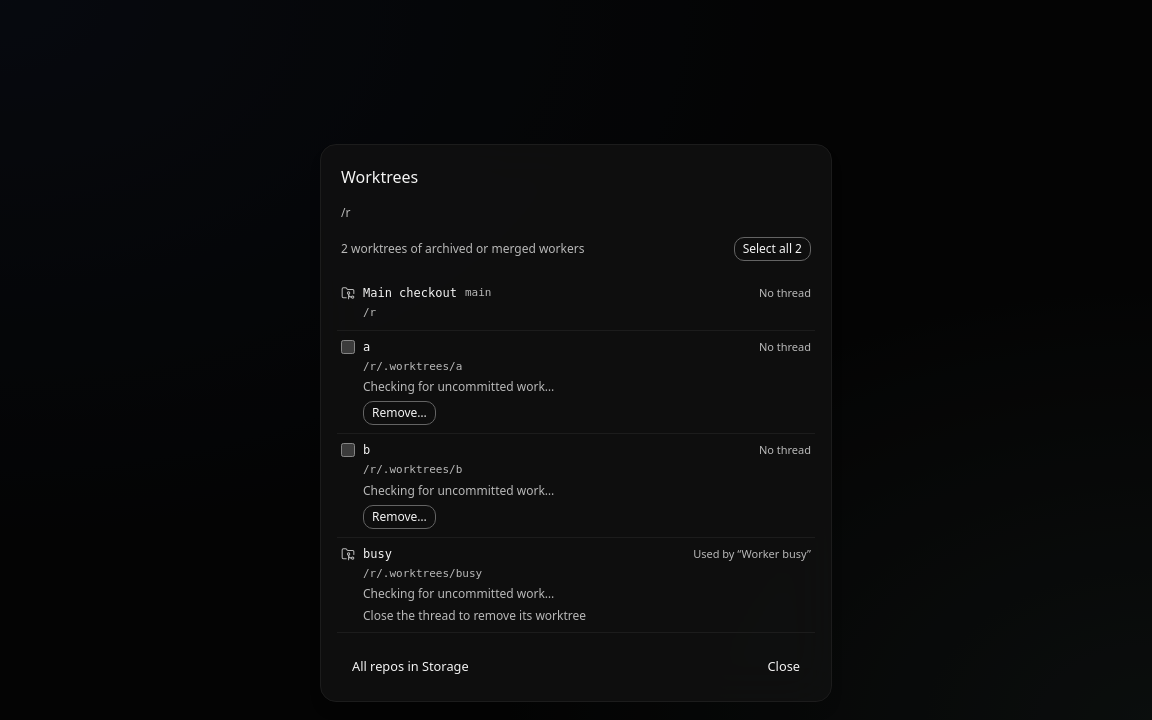
Test: WorktreesDialog bulk removal › selects archived and merged workers' worktrees at once and closes each worker with it
Expected: the text "2 worktrees of archived or merged workers" is shown, x1=341 y1=241 x2=584 y2=257
Click the button "Select all 2". click: (772, 249)
box: x1=734 y1=237 x2=811 y2=261
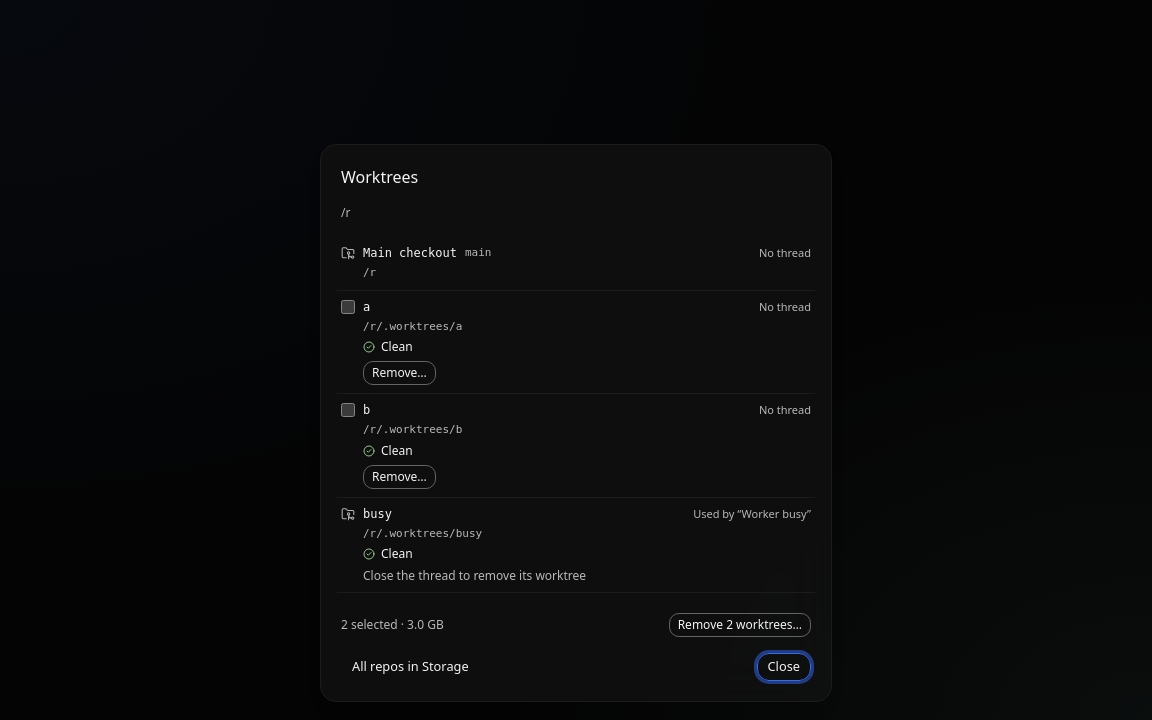
Expected: the text with test id "worktree-selection" reads "2 selected · 3.0 GB", x1=341 y1=617 x2=444 y2=633
Click the button "Remove 2 worktrees…". click: (740, 625)
box: x1=669 y1=613 x2=811 y2=637
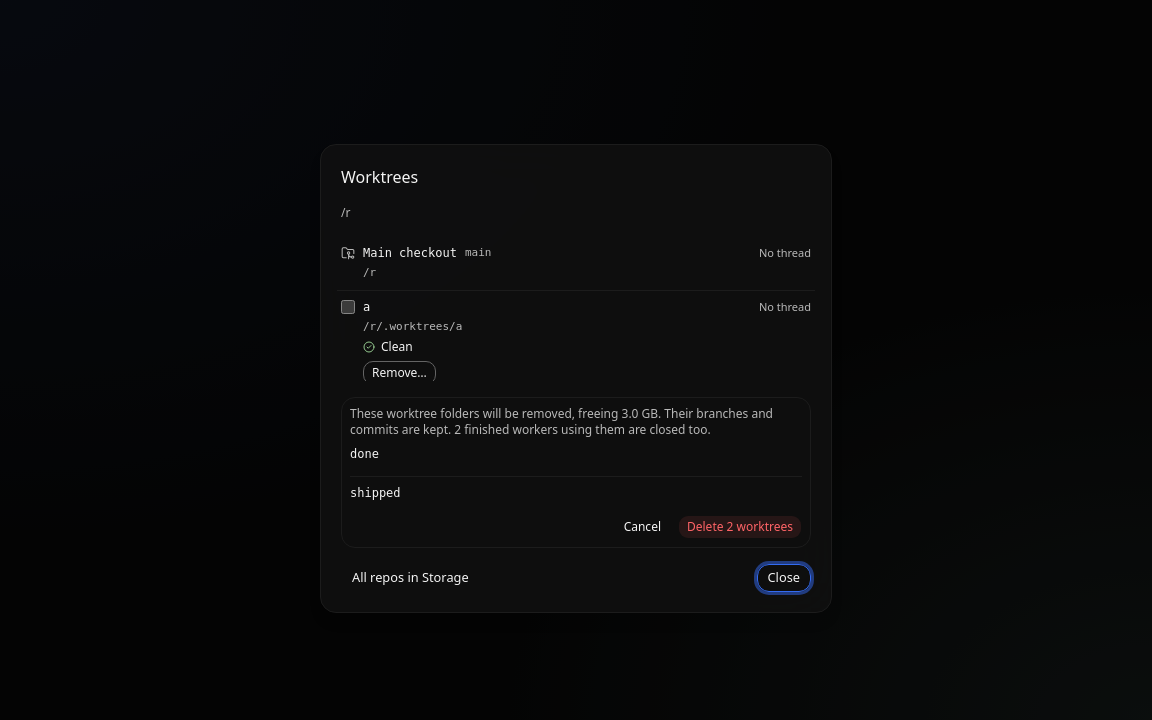
Expected: the element with test id "worktree-bulk-remove" shows "freeing 3.0 GB", x1=341 y1=397 x2=811 y2=548
Expected: the element with test id "worktree-bulk-remove" shows "2 finished workers using them are closed too.", x1=451 y1=421 x2=711 y2=438
Click the button "Delete 2 worktrees". click: (740, 527)
box: x1=678 y1=515 x2=802 y2=539
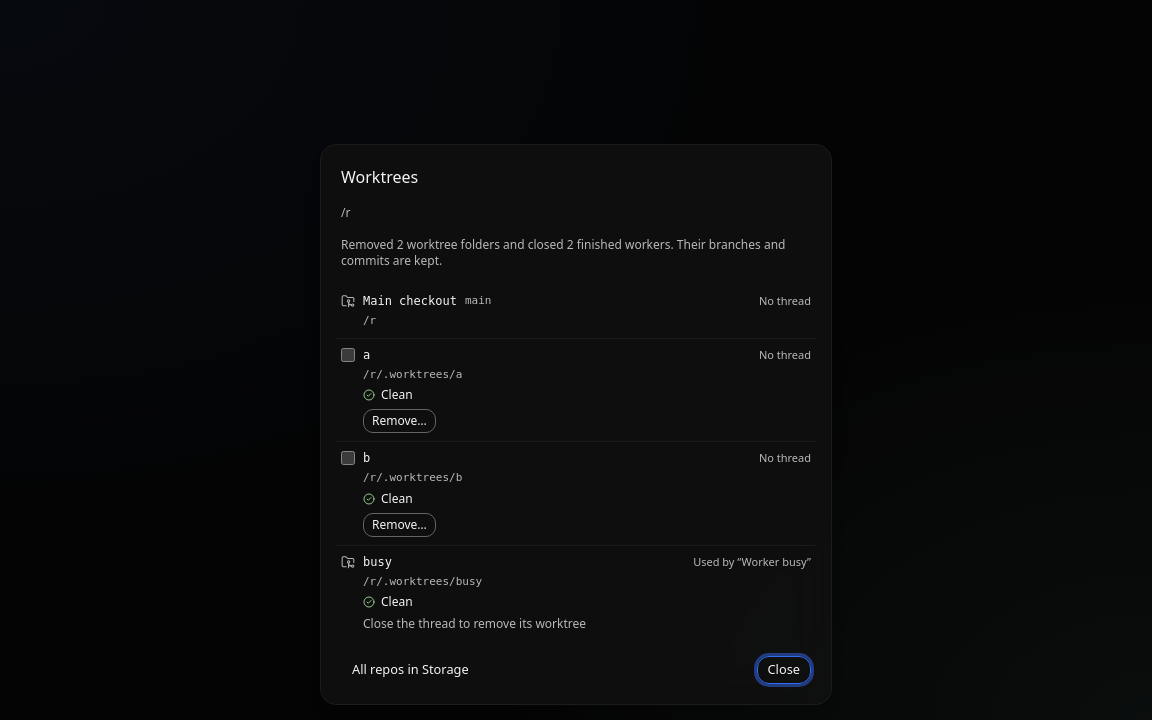
Expected: the message shows "Removed 2 worktree folders and closed 2 finished workers. Their branches and commits are kept.", x1=341 y1=236 x2=786 y2=269
